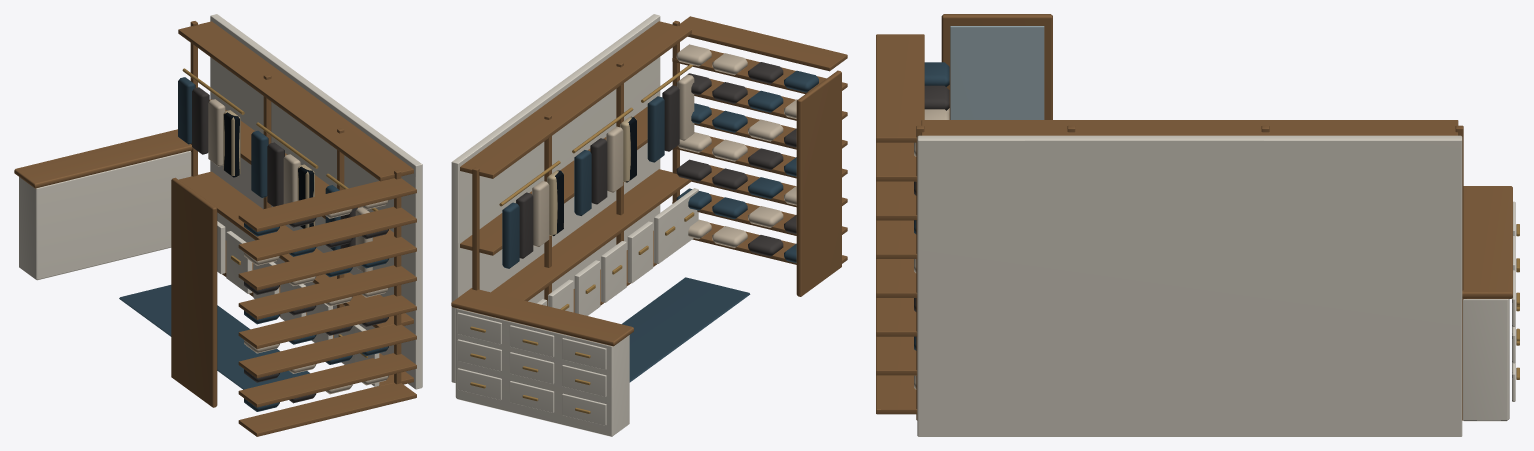
The model's file is master-closet-furniture-v002.glb.
3 views of the same model, side by side, from view 1: azimuth 30°, elevation 25°; view 2: azimuth 150°, elevation 25°; view 3: azimuth 270°, elevation 25° (orthographic). The views are drawn at different scales.
Parts seen in each view (by area): view 1: Export Closet east back; view 2: Export Closet east back; view 3: Export Closet east back.
Part boxes in pixels (x1=…): Export Closet east back: x1=14, y1=14, x2=422, y2=436; Export Closet east back: x1=451, y1=14, x2=847, y2=436; Export Closet east back: x1=876, y1=14, x2=1519, y2=436.
Size of the model in its own units: 2.16 by 2.32 by 4.51.
Materials: 8 (1 with a texture image).
